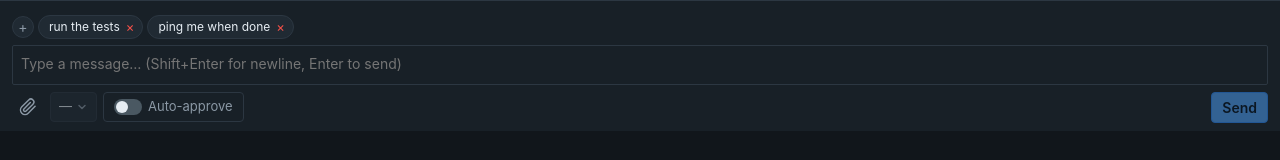
<Composer> › removes a quick-phrase pill when its delete cross is clicked, without submitting it
Click the button named "Remove quick phrase: run the tests".
click(130, 27)  # box [122,20,138,34]
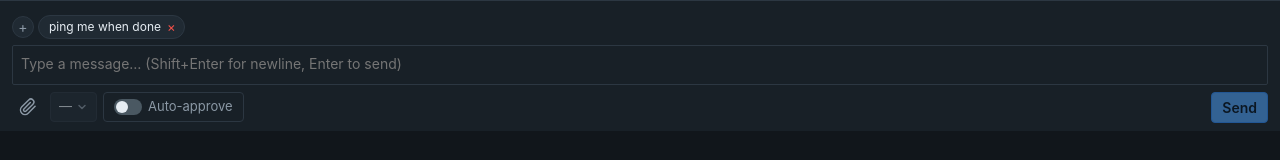
Check: the text box with placeholder "Type a message… (Shift+Enter for newline, Enter to send)" is empty, box [12,45,1268,85]
Check: the button "run the tests" is gone
Check: the button "ping me when done" is shown, box [49,18,161,36]
